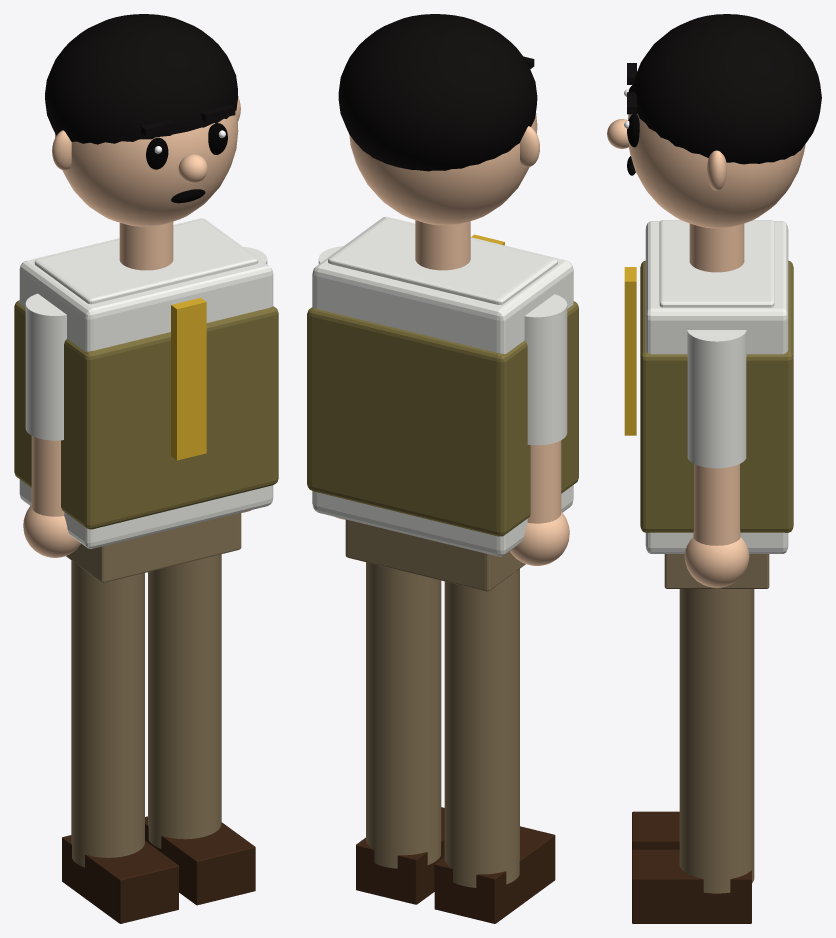
The model's file is pai.glb.
3 renders of one model, left to right at view 1: azimuth 30°, elevation 25°; view 2: azimuth 150°, elevation 25°; view 3: azimuth 270°, elevation 25°, orthographic. The views are drawn at different scales.
Parts seen in each view (by area): view 1: colete, coxa-1, coxa1, cabelo, tronco, rosto, ombros, sap-1, quadril, gravata, braco_c-1, sap1 (+5 smaller); view 2: colete, cabelo, coxa-1, coxa1, tronco, ombros, rosto, quadril, braco_c-1, sap-1, sap1, antebraco-1 (+3 smaller); view 3: coxa1, cabelo, colete, tronco, rosto, braco_c1, ombros, sap1, antebraco1, mao1, pescoco, gravata (+4 smaller).
Boxes of the visible parts, x1,y1,x2,y2 form: colete: [14, 300, 278, 529]; coxa-1: [71, 560, 144, 867]; coxa1: [148, 554, 221, 848]; cabelo: [45, 14, 238, 144]; tronco: [19, 218, 273, 548]; rosto: [55, 110, 238, 226]; ombros: [34, 219, 258, 304]; sap-1: [62, 835, 178, 923]; quadril: [66, 512, 241, 582]; gravata: [171, 298, 206, 460]; braco_c-1: [25, 293, 66, 440]; sap1: [145, 816, 255, 905]; colete: [307, 301, 578, 536]; cabelo: [338, 14, 537, 171]; coxa-1: [444, 569, 519, 887]; coxa1: [366, 562, 441, 868]; tronco: [312, 216, 573, 556]; ombros: [328, 218, 557, 304]; rosto: [349, 113, 537, 225]; quadril: [345, 519, 525, 591]; braco_c-1: [524, 294, 567, 445]; sap-1: [434, 826, 555, 923]; sap1: [356, 807, 444, 904]; antebraco-1: [527, 440, 561, 523]; coxa1: [679, 588, 754, 893]; cabelo: [632, 14, 821, 164]; colete: [640, 260, 793, 532]; tronco: [645, 221, 788, 553]; rosto: [628, 113, 805, 228]; braco_c1: [687, 330, 746, 468]; ombros: [659, 220, 774, 307]; sap1: [632, 849, 751, 923]; antebraco1: [693, 464, 740, 545]; mao1: [684, 537, 749, 587]; pescoco: [689, 223, 744, 272]; gravata: [624, 267, 636, 435].
Bounding box in the file's own units: 0.56 × 1.91 × 0.43.
